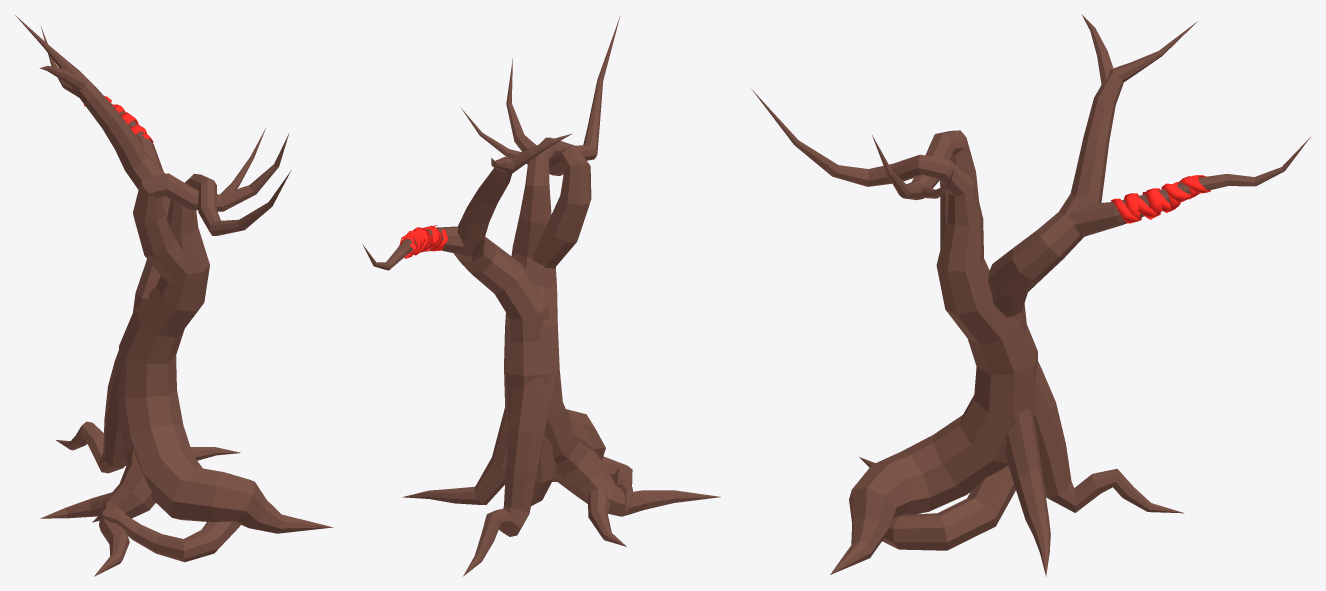
File: Tree.Reg.fbx
3 renders of one model, left to right at view 1: azimuth 30°, elevation 25°; view 2: azimuth 150°, elevation 25°; view 3: azimuth 270°, elevation 25°, orthographic. The views are drawn at different scales.
Visible parts, largest first — view 1: NurbsPath.001; view 2: NurbsPath.001, BezierCurve.006; view 3: NurbsPath.001, BezierCurve.006.
Part boxes in pixels (x1,y1,x2,y2): NurbsPath.001: (15,15,333,576); NurbsPath.001: (362,16,720,576); BezierCurve.006: (399,225,448,258); NurbsPath.001: (752,14,1310,576); BezierCurve.006: (1111,175,1210,223).
Bounding box in the file's own units: 720 × 1300 × 1359.
